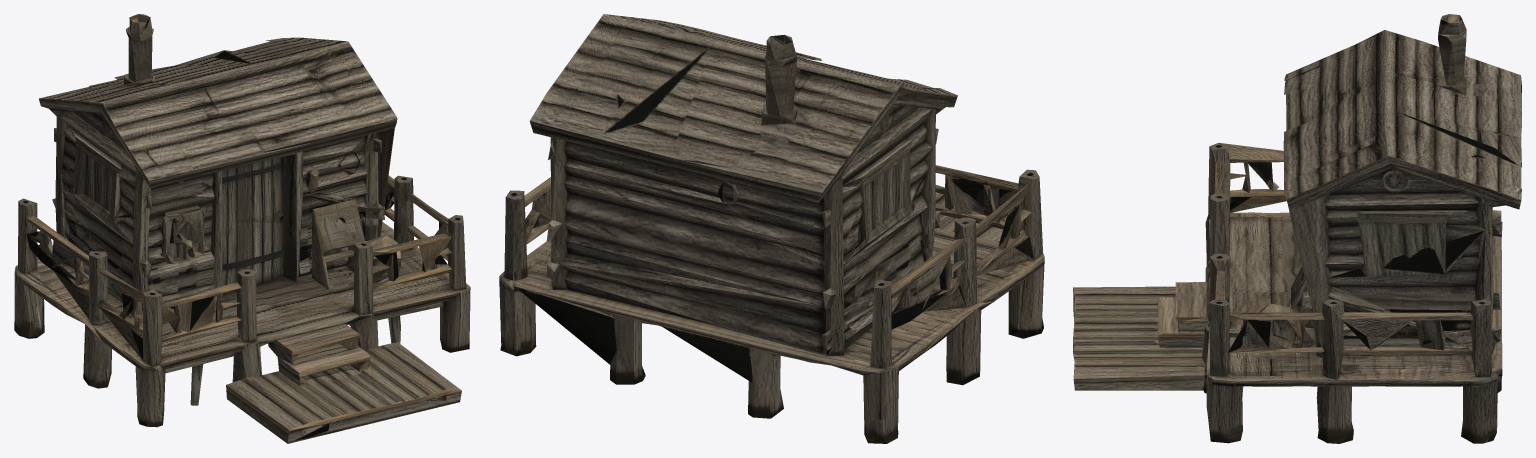
The model's file is fishery.glb.
3 renders of one model, left to right at view 1: azimuth 30°, elevation 25°; view 2: azimuth 150°, elevation 25°; view 3: azimuth 270°, elevation 25°, orthographic. The views are drawn at different scales.
Bounding box in the file's own units: 1.69 × 1.47 × 1.9.
1 material, 1 textured.
